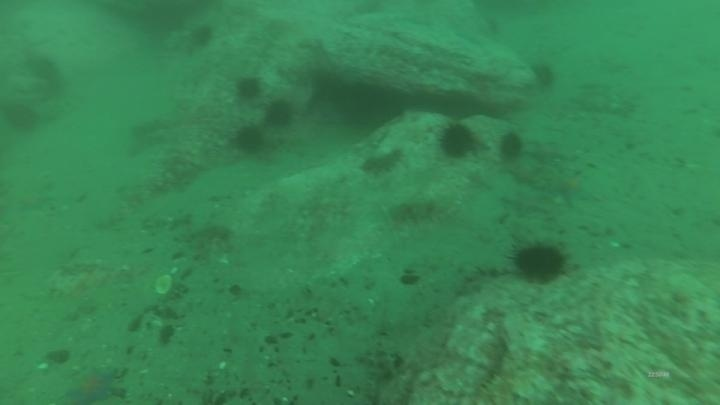echinus: (509, 239, 570, 285), (23, 52, 67, 96), (435, 120, 479, 161), (340, 83, 385, 118), (1, 99, 42, 136), (232, 123, 267, 156), (495, 129, 527, 164), (263, 97, 296, 130), (529, 59, 559, 92), (232, 73, 265, 102), (187, 22, 217, 50)
holothurian: (361, 341, 413, 405), (386, 194, 457, 228), (359, 146, 406, 177)
starfish: (62, 364, 125, 405), (547, 168, 600, 208), (499, 185, 552, 220), (10, 184, 55, 218)
